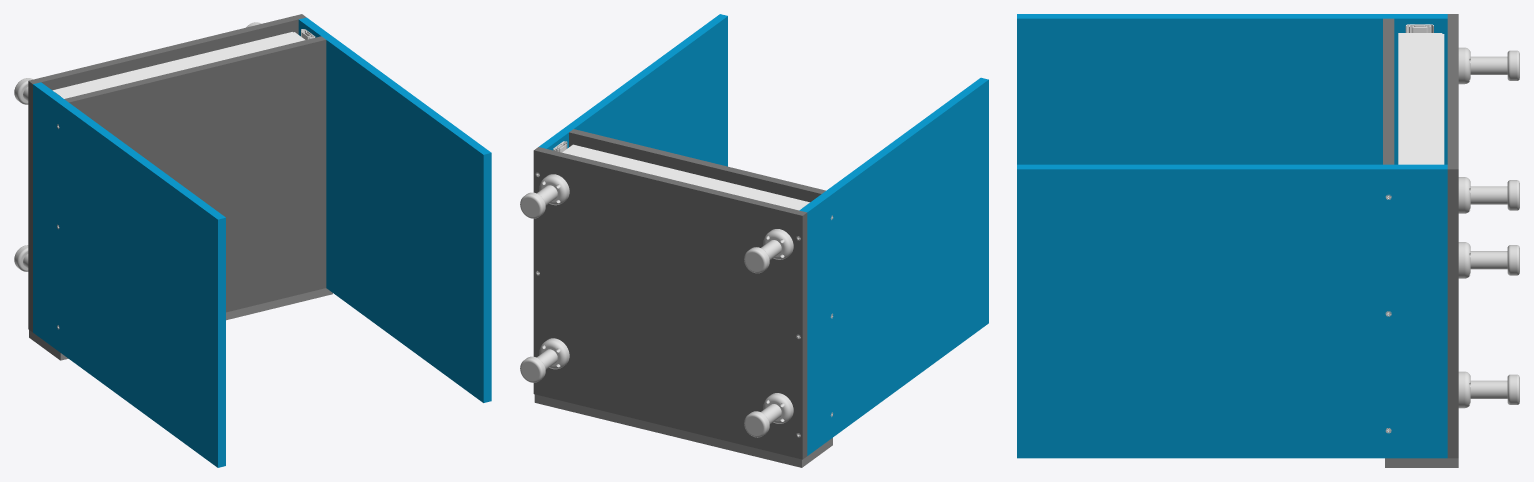
File: PERSP.glb
The picture shows the model from 3 angles, left to right: view 1: azimuth 30°, elevation 25°; view 2: azimuth 150°, elevation 25°; view 3: azimuth 270°, elevation 25°; orthographic projection. The views are drawn at different scales.
Parts seen in each view (by area): view 1: *MODEL_SPACE; view 2: *MODEL_SPACE, Virtuvne Kojele (×4); view 3: *MODEL_SPACE, Virtuvne Kojele (×4).
Boxes of the visible parts, x1,y1,x2,y2 form: *MODEL_SPACE: (28, 14, 491, 467); *MODEL_SPACE: (533, 14, 988, 467); Virtuvne Kojele (×4): (520, 174, 793, 437); *MODEL_SPACE: (1017, 14, 1458, 467); Virtuvne Kojele (×4): (1458, 47, 1519, 408).
Size of the model in its own units: 0.6 by 0.538 by 0.82.
